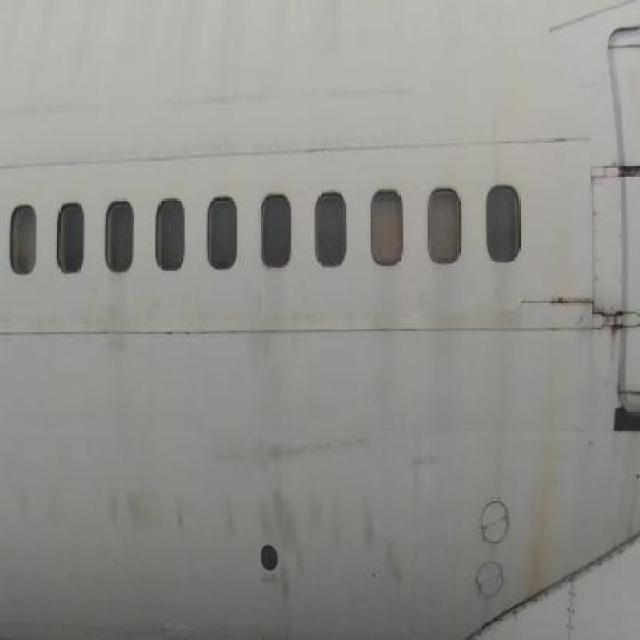Rust: (508, 363, 597, 605), (530, 164, 584, 304)
Scartch: (219, 482, 406, 633), (219, 426, 375, 480), (104, 471, 193, 563), (1, 86, 107, 139), (153, 82, 287, 118), (314, 78, 424, 117), (17, 471, 66, 549), (411, 445, 438, 512)
